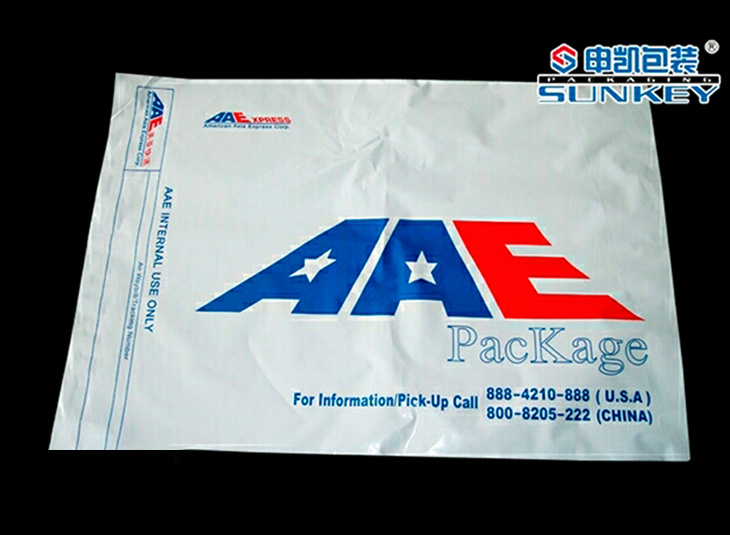塑料袋: (51, 74, 689, 459)
